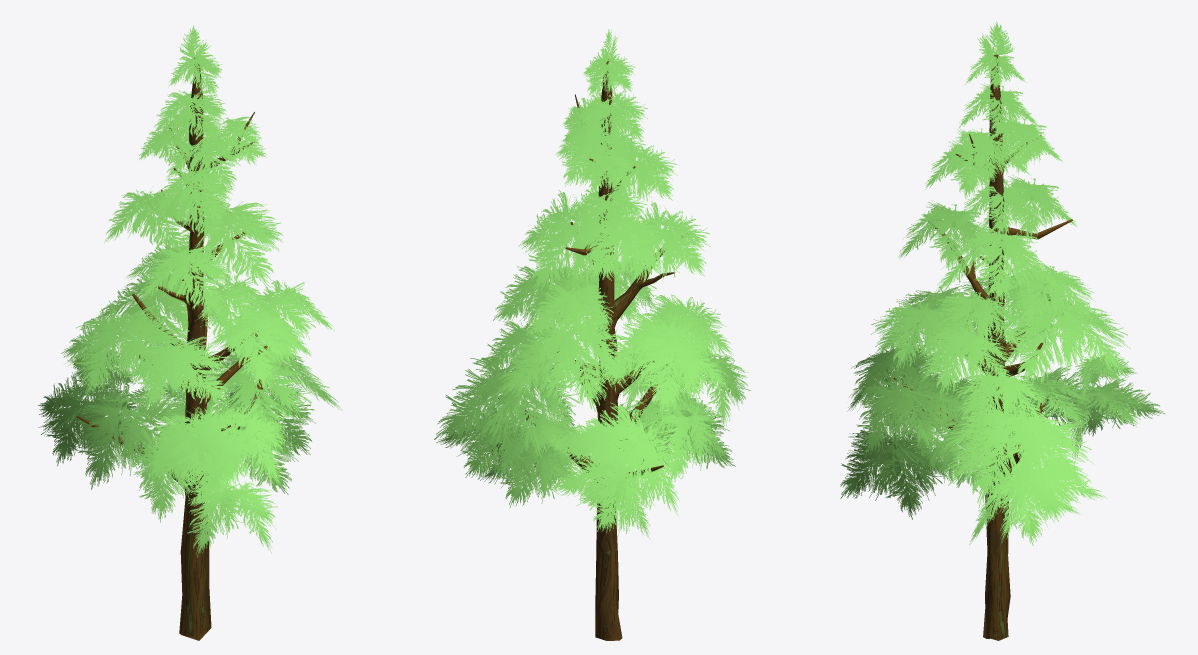
The model's file is shongshu_04_low.fbx.
3 views of the same model, side by side, from view 1: azimuth 30°, elevation 25°; view 2: azimuth 150°, elevation 25°; view 3: azimuth 270°, elevation 25° (orthographic).
Visible parts, largest first — view 1: leaf.004, trunk_2; view 2: leaf.004, trunk_2; view 3: leaf.004, trunk_2.
Part boxes in pixels (x1,y1,x2,y2): leaf.004: [38, 25, 342, 557]; trunk_2: [76, 58, 267, 640]; leaf.004: [434, 29, 750, 538]; trunk_2: [498, 59, 687, 640]; leaf.004: [840, 21, 1165, 545]; trunk_2: [893, 54, 1072, 640].
Size of the model in its own units: 1536 by 2891 by 1591.
